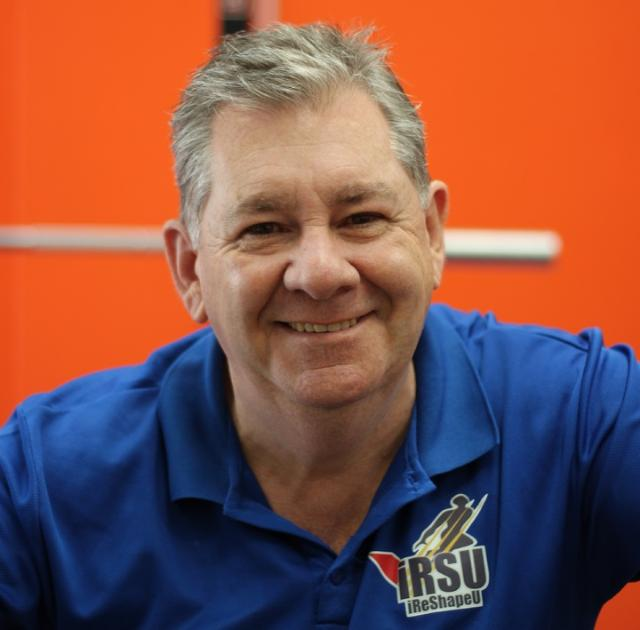crows_feet: (213, 228, 240, 258), (382, 209, 411, 236)
frown_line: (293, 210, 331, 231)
gummy_smile: (256, 276, 284, 320), (364, 266, 396, 302)
